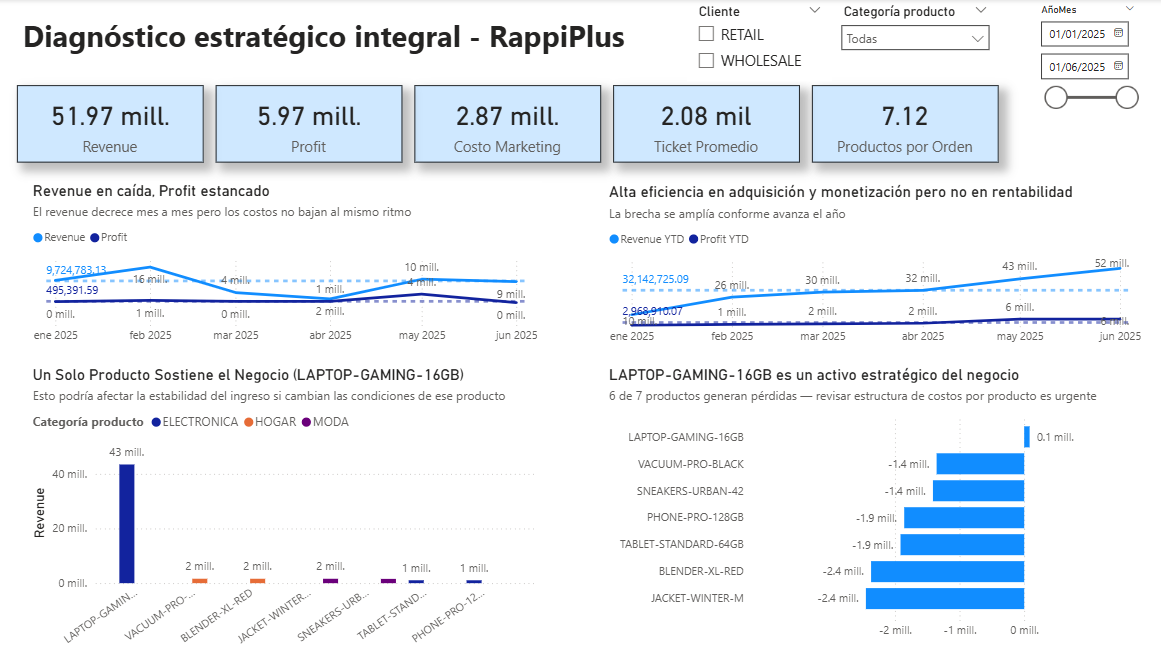

What the dashboard file says about the page in this screenshot:
{"tool":"powerbi","page":{"name":"Overview","canvas":[1280,720],"ordinal":0},"visuals":[{"type":"card","fields":{"Values":["orders_work.Revenue Total"]},"box":[22,94.7,204.5,85.1],"z":0},{"type":"card","fields":{"Values":["marketing_work.Marketing Total"]},"box":[458.3,94.7,204.5,85.1],"z":1},{"type":"card","fields":{"Values":["orders_work.Ticket Promedio"]},"box":[676.5,94.7,204.5,85.1],"z":2},{"type":"card","fields":{"Values":["orders_work.Productos por Orden"]},"box":[894.7,94.7,204.5,85.1],"z":3},{"type":"card","fields":{"Values":["orders_work.Profit Total"]},"box":[240.1,94.7,204.5,85.1],"z":4},{"type":"lineChart","title":"Revenue en caída, Profit estancado","fields":{"Category":["dim_fecha.AñoMes"],"Y":["orders_work.Revenue Total","orders_work.Profit Total"]},"box":[34.3,200.3,564,186.6],"z":5},{"type":"clusteredBarChart","title":"LAPTOP-GAMING-16GB es un activo estratégico del negocio","fields":{"Category":["catalog_work.nombre_producto"],"Y":["orders_work.Profit Total"]},"box":[666.9,402.1,594.2,308.7],"z":7},{"type":"clusteredColumnChart","title":"Un Solo Producto Sostiene el Negocio (LAPTOP-GAMING-16GB)","fields":{"Category":["catalog_work.nombre_producto"],"Y":["orders_work.Revenue Total"],"Series":["orders_work.categoria_producto"]},"box":[34.3,402.1,562.6,318.4],"z":8},{"type":"textbox","box":[23.3,13.7,688.9,54.9],"z":9},{"type":"lineChart","title":"Alta eficiencia en adquisición y monetización pero no en rentabilidad","fields":{"Category":["dim_fecha.AñoMes"],"Y":["orders_work.Revenue YTD","orders_work.Profit YTD"]},"box":[666.9,201.7,594.2,186.6],"z":10},{"type":"slicer","fields":{"Values":["dim_fecha.AñoMes"]},"box":[1133.5,0,127.6,123.5],"z":11},{"type":"slicer","fields":{"Values":["catalog_work.categoria_producto"]},"box":[916.6,0,182.5,68.6],"z":12},{"type":"slicer","fields":{"Values":["orders_work.customer_type"]},"box":[757.5,0,159.2,90.6],"z":13}]}

Visuals, with their boxes in screenshot pixels (x1, y1, x2, y2), scaled from the page's 1280x720 canvas onto the 1161x649 screenshot:
card - orders_work.Revenue Total: {"left": 20, "top": 85, "right": 205, "bottom": 162}
card - marketing_work.Marketing Total: {"left": 416, "top": 85, "right": 601, "bottom": 162}
card - orders_work.Ticket Promedio: {"left": 614, "top": 85, "right": 799, "bottom": 162}
card - orders_work.Productos por Orden: {"left": 812, "top": 85, "right": 997, "bottom": 162}
card - orders_work.Profit Total: {"left": 218, "top": 85, "right": 403, "bottom": 162}
"Revenue en caída, Profit estancado" lineChart: {"left": 31, "top": 181, "right": 543, "bottom": 349}
"LAPTOP-GAMING-16GB es un activo estratégico del negocio" clusteredBarChart: {"left": 605, "top": 362, "right": 1144, "bottom": 641}
"Un Solo Producto Sostiene el Negocio (LAPTOP-GAMING-16GB)" clusteredColumnChart: {"left": 31, "top": 362, "right": 541, "bottom": 648}
textbox: {"left": 21, "top": 12, "right": 646, "bottom": 62}
"Alta eficiencia en adquisición y monetización pero no en rentabilidad" lineChart: {"left": 605, "top": 182, "right": 1144, "bottom": 350}
slicer - dim_fecha.AñoMes: {"left": 1028, "top": 0, "right": 1144, "bottom": 111}
slicer - catalog_work.categoria_producto: {"left": 831, "top": 0, "right": 997, "bottom": 62}
slicer - orders_work.customer_type: {"left": 687, "top": 0, "right": 831, "bottom": 82}
